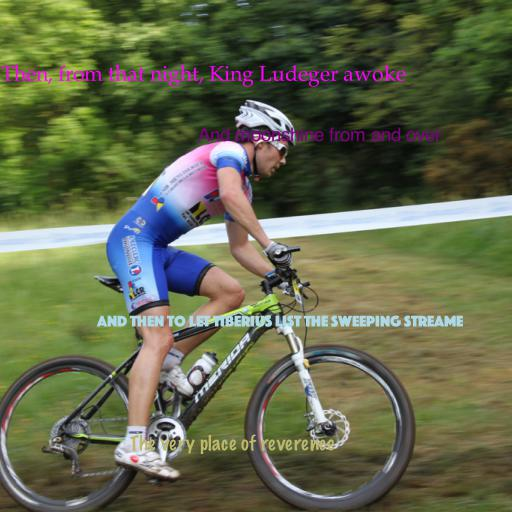Impact: (197, 127, 441, 142)
Marker Felt: (130, 434, 334, 455)
Palatino: (0, 64, 406, 87)
Phosphate: (97, 315, 463, 327)
